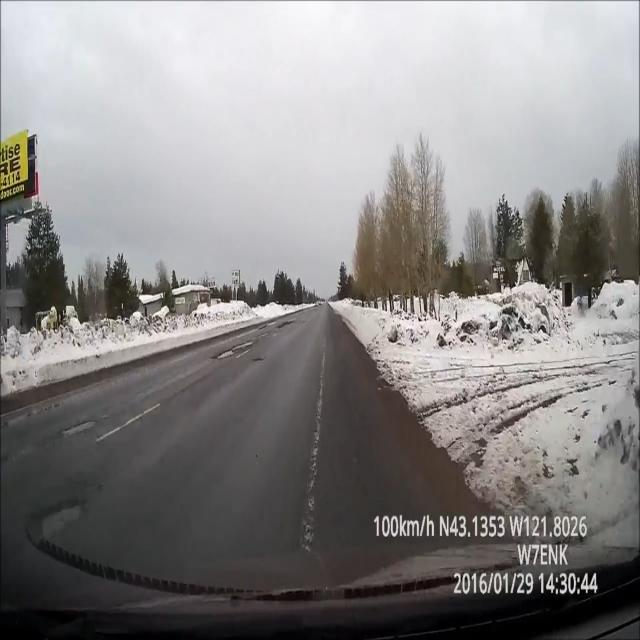Pothole: (38, 488, 95, 535), (205, 340, 255, 360)
